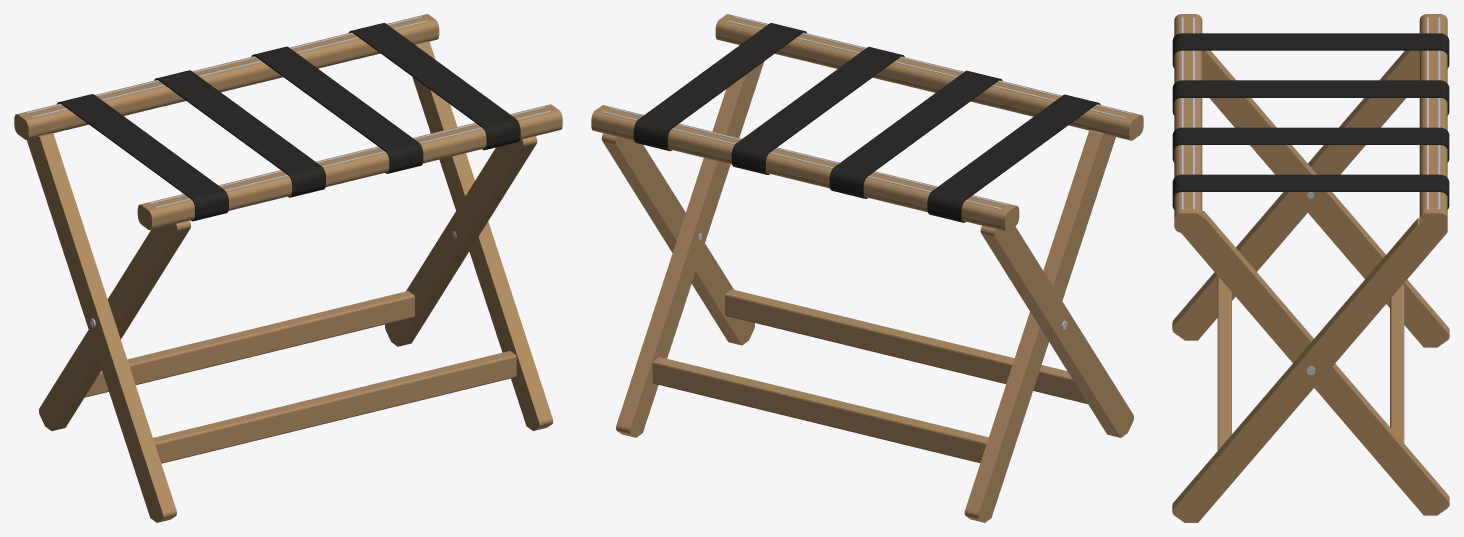
The model's file is NEW571_luggage_rack_LOD0.glb.
3 views of the same model, side by side, from view 1: azimuth 30°, elevation 25°; view 2: azimuth 150°, elevation 25°; view 3: azimuth 270°, elevation 25° (orthographic).
Visible parts, largest first — view 1: NEW571_Complete_Luggage_Rack_LOD0; view 2: NEW571_Complete_Luggage_Rack_LOD0; view 3: NEW571_Complete_Luggage_Rack_LOD0.
Part boxes in pixels (<box>): NEW571_Complete_Luggage_Rack_LOD0: <box>14,14,562,522</box>; NEW571_Complete_Luggage_Rack_LOD0: <box>591,14,1143,522</box>; NEW571_Complete_Luggage_Rack_LOD0: <box>1172,14,1449,522</box>.
Size of the model in its own units: 0.655 by 0.485 by 0.385.
